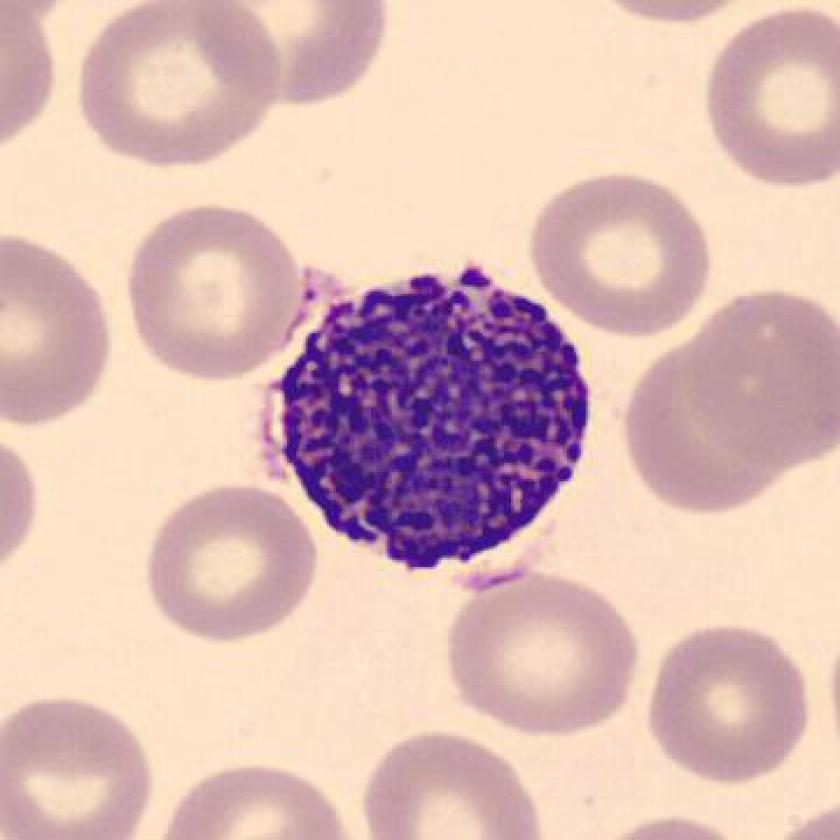basophil: (267, 253, 605, 584)
